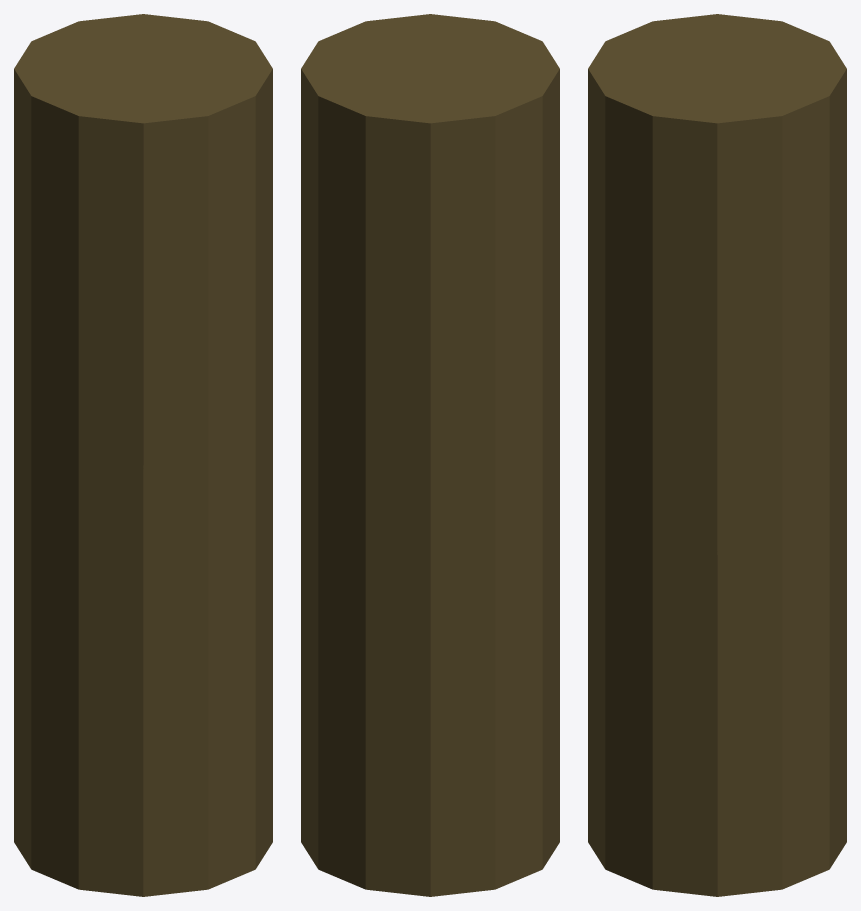
Rendered from FencePost.fbx.
The picture shows the model from 3 angles, left to right: view 1: azimuth 30°, elevation 25°; view 2: azimuth 150°, elevation 25°; view 3: azimuth 270°, elevation 25°; orthographic projection.
Parts seen in each view (by area): view 1: Fence Post.001; view 2: Fence Post.001; view 3: Fence Post.001.
Boxes of the visible parts, x1,y1,x2,y2 form: Fence Post.001: [14, 14, 272, 896]; Fence Post.001: [301, 14, 559, 896]; Fence Post.001: [588, 14, 846, 896].
Bounding box in the file's own units: 50 × 165 × 50.
